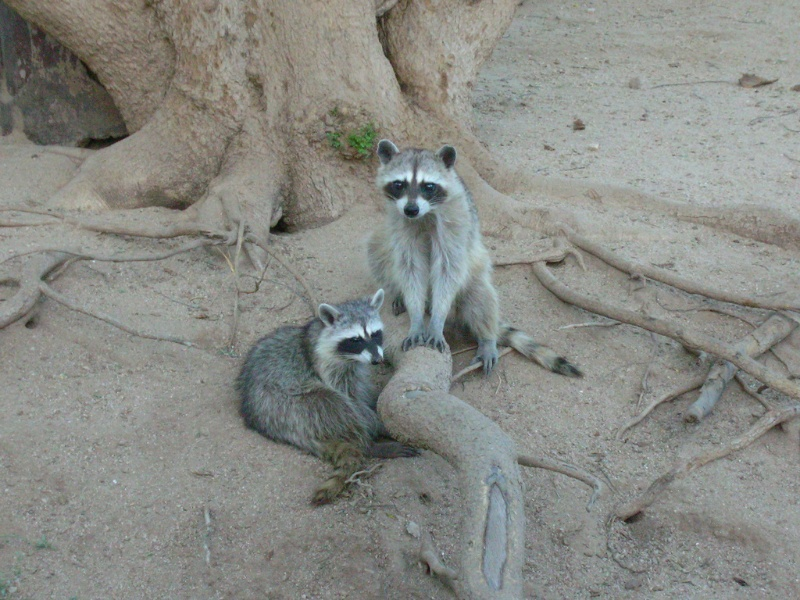raccoon: (369, 138, 593, 380), (234, 285, 428, 505)
